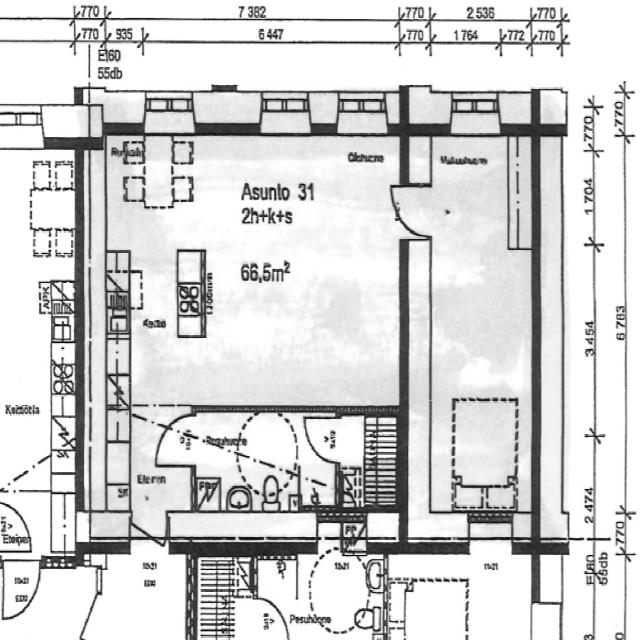door: (84, 120, 403, 408), (433, 138, 531, 543), (5, 153, 80, 498), (189, 406, 303, 513), (345, 408, 398, 508)
window: (136, 90, 202, 128), (331, 85, 393, 124), (444, 84, 508, 120), (252, 88, 316, 121), (0, 103, 43, 139)
zone: (382, 175, 432, 245), (152, 405, 200, 468), (0, 550, 40, 623), (297, 414, 343, 466), (0, 496, 31, 564), (129, 508, 174, 546)
